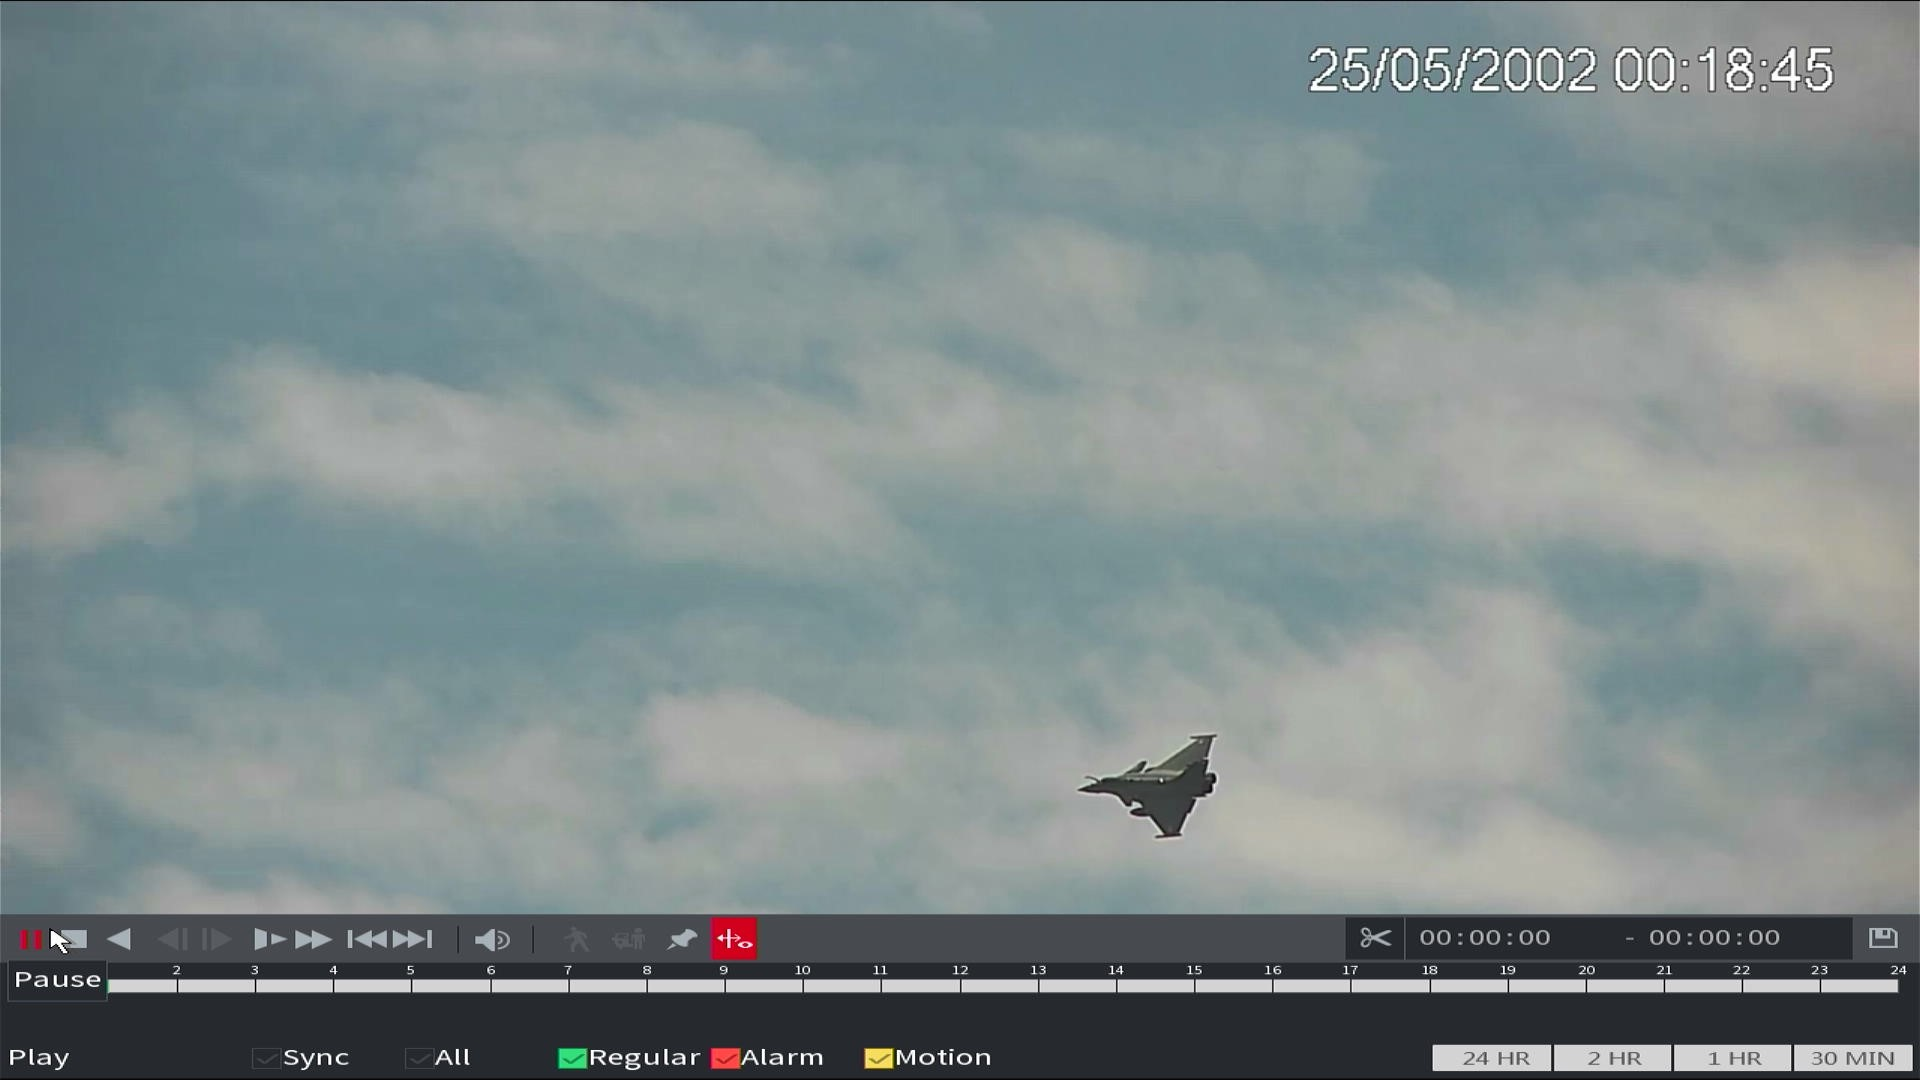SU_30: (1073, 727, 1220, 839)
